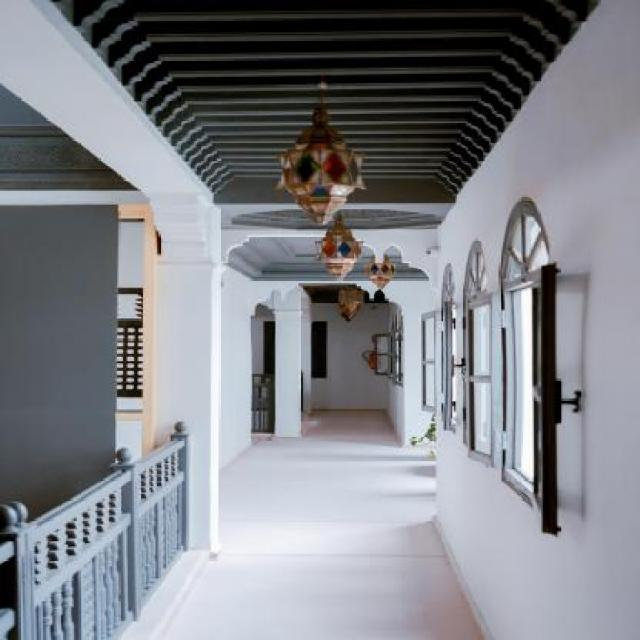Floor: (162, 415, 482, 639)
